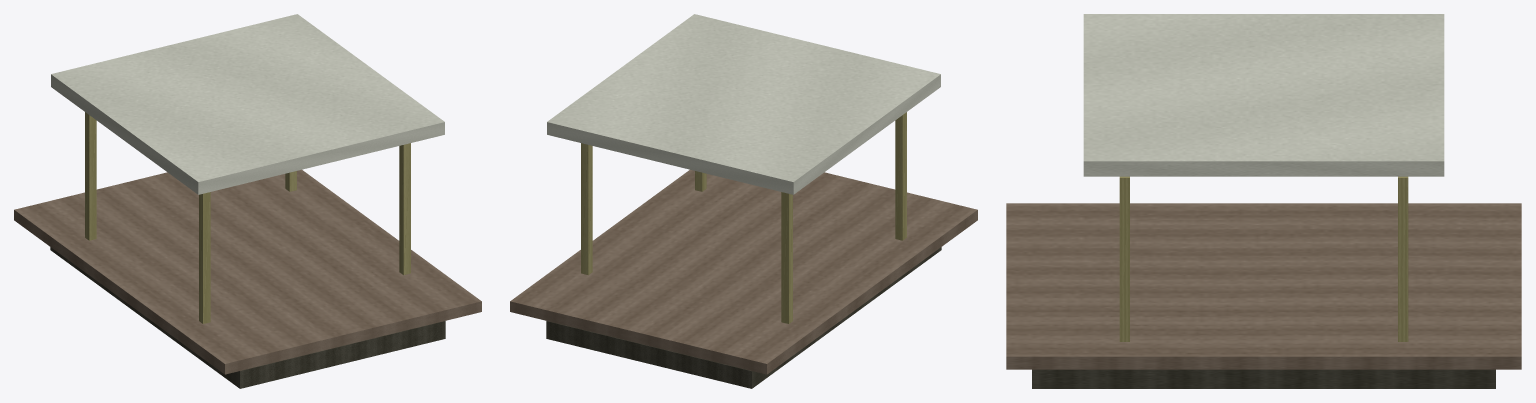
The model's file is bung-raft-0-white-lod.glb.
3 views of the same model, side by side, from view 1: azimuth 30°, elevation 25°; view 2: azimuth 150°, elevation 25°; view 3: azimuth 270°, elevation 25° (orthographic). The views are drawn at different scales.
Visible parts, largest first — view 1: bung-raft-0-white-lod; view 2: bung-raft-0-white-lod; view 3: bung-raft-0-white-lod.
Boxes of the visible parts, x1,y1,x2,y2 form: bung-raft-0-white-lod: (14,14,481,388); bung-raft-0-white-lod: (510,14,977,388); bung-raft-0-white-lod: (1006,14,1521,388).
Size of the model in its own units: 3.8 by 2.78 by 5.4.
1 material, 1 textured.
